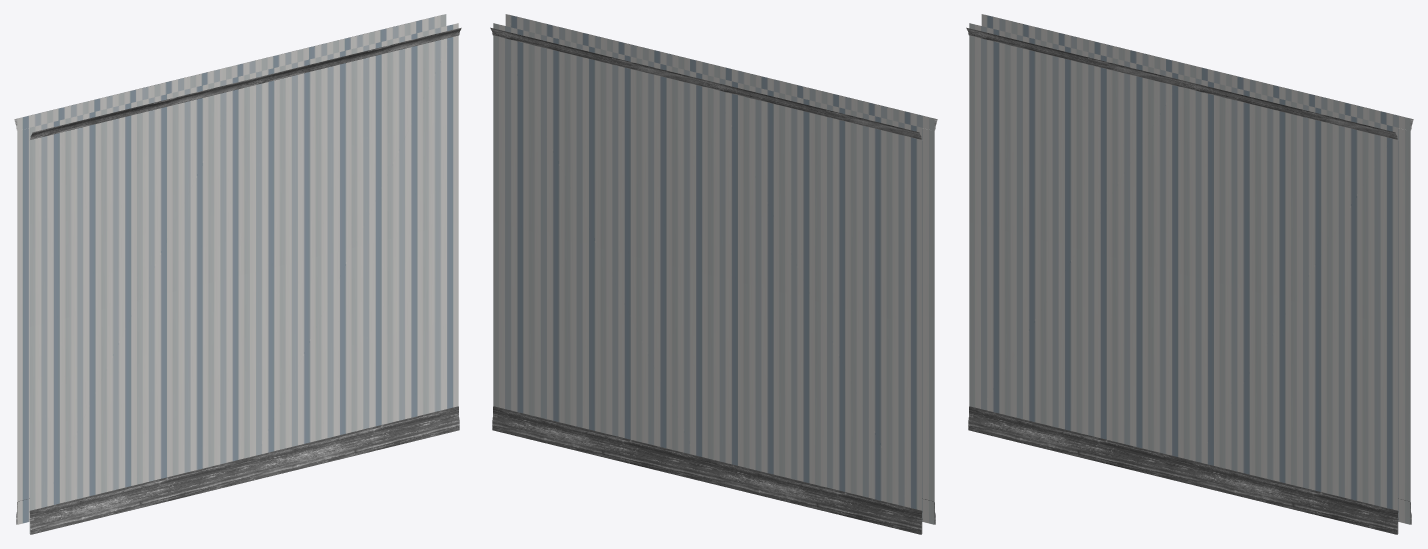
The model's file is SM_Wall_Floor1_Inside_400.fbx.
3 renders of one model, left to right at view 1: azimuth 30°, elevation 25°; view 2: azimuth 150°, elevation 25°; view 3: azimuth 330°, elevation 25°, orthographic.
Visible parts, largest first — view 1: SM_Wall_Floor1_Inside_400; view 2: SM_Wall_Floor1_Inside_400; view 3: SM_Wall_Floor1_Inside_400.
Part boxes in pixels (x1,y1,x2,y2): SM_Wall_Floor1_Inside_400: [14, 14, 461, 534]; SM_Wall_Floor1_Inside_400: [490, 14, 937, 534]; SM_Wall_Floor1_Inside_400: [966, 14, 1413, 534].
Bounding box in the file's own units: 280 × 20.33 × 253.
2 materials, 2 textured.
